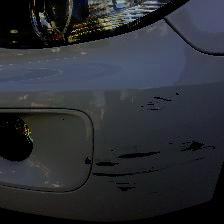bumper_scratch: (83, 94, 222, 199)
